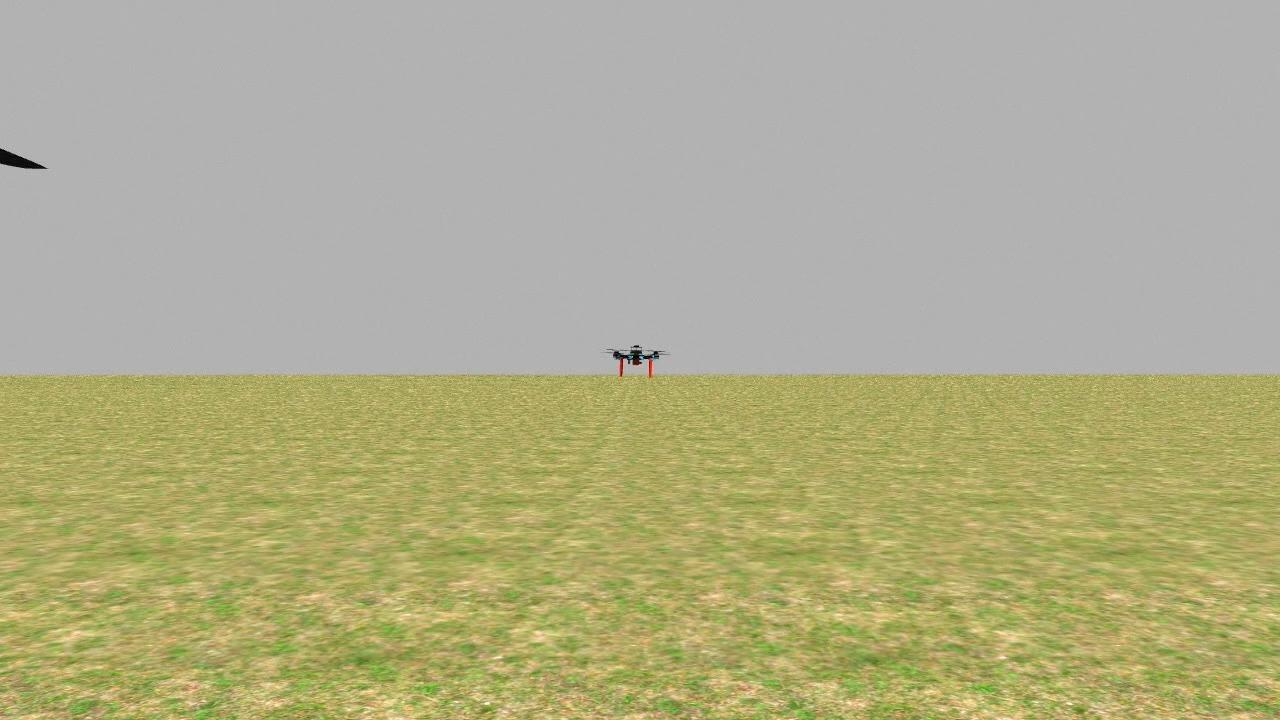UAV: (601, 332, 677, 379)
